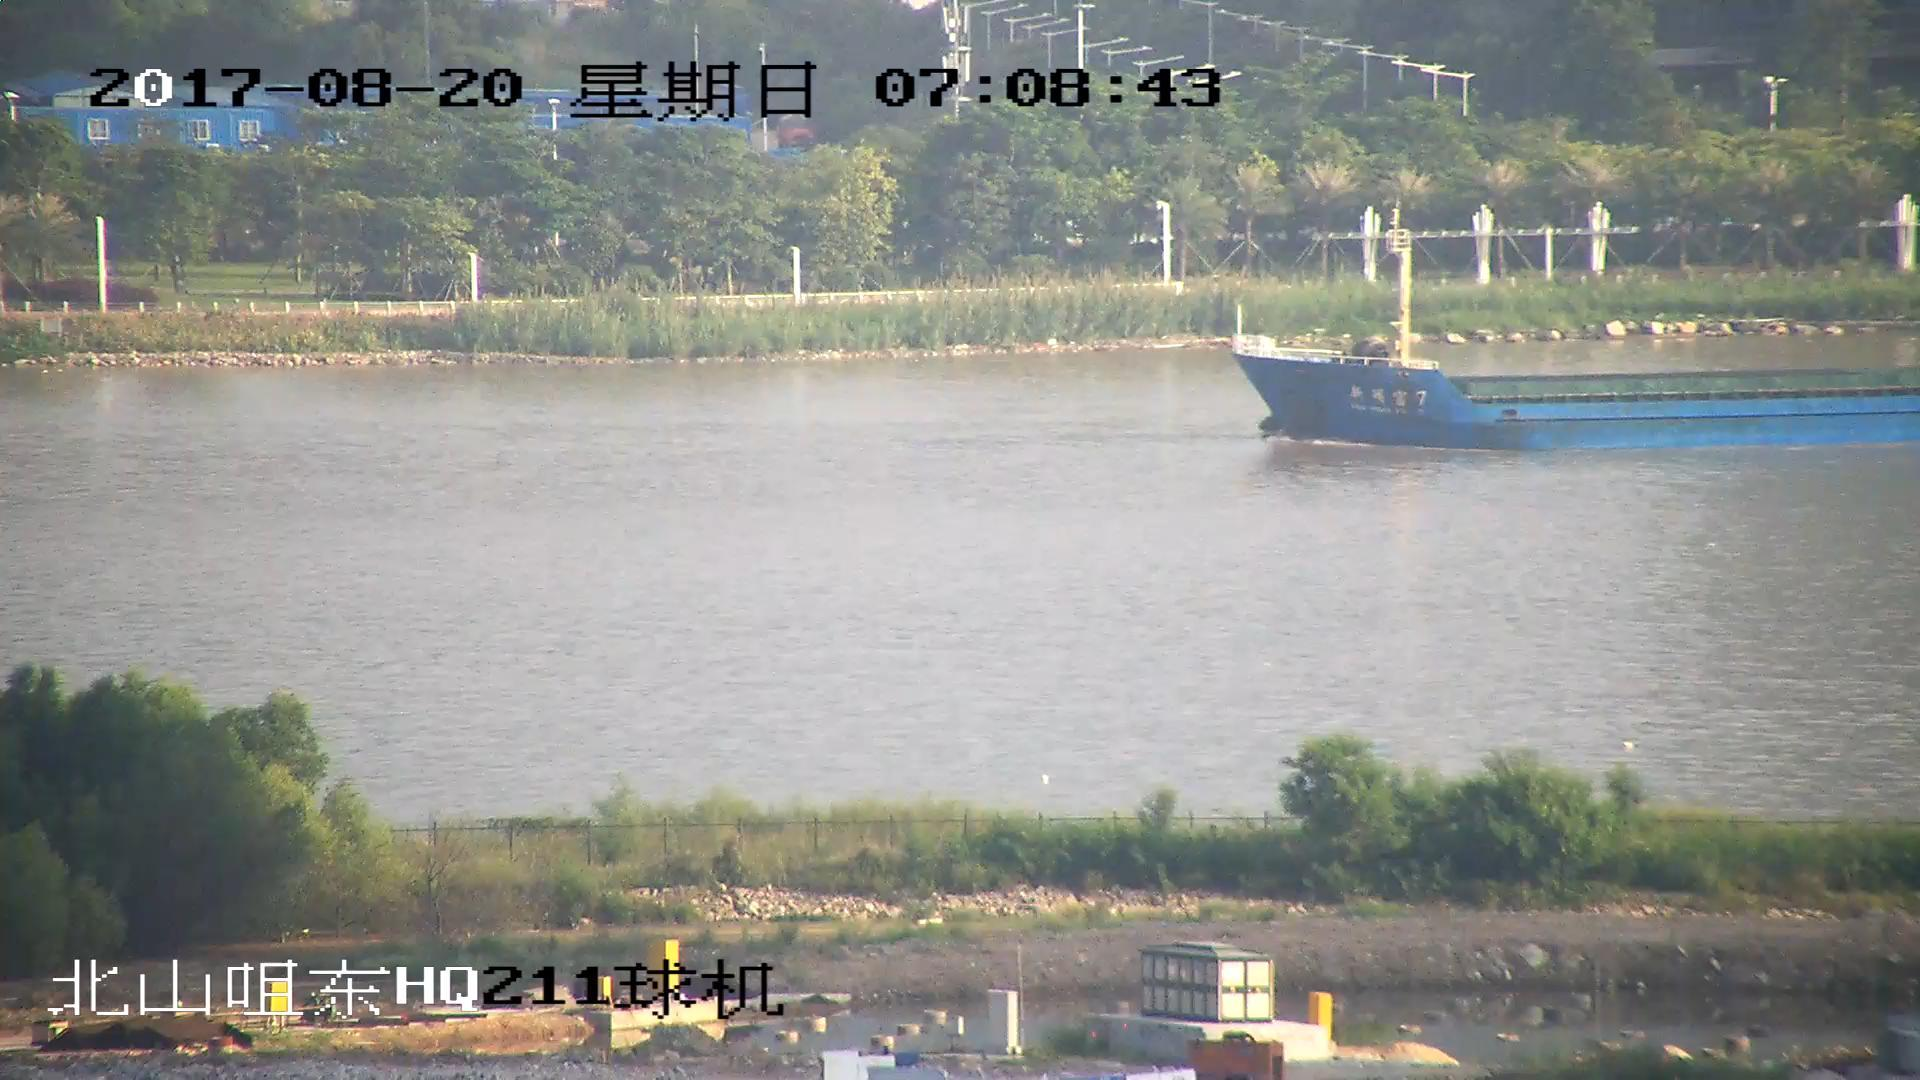Ship: (1230, 239, 1920, 451)
